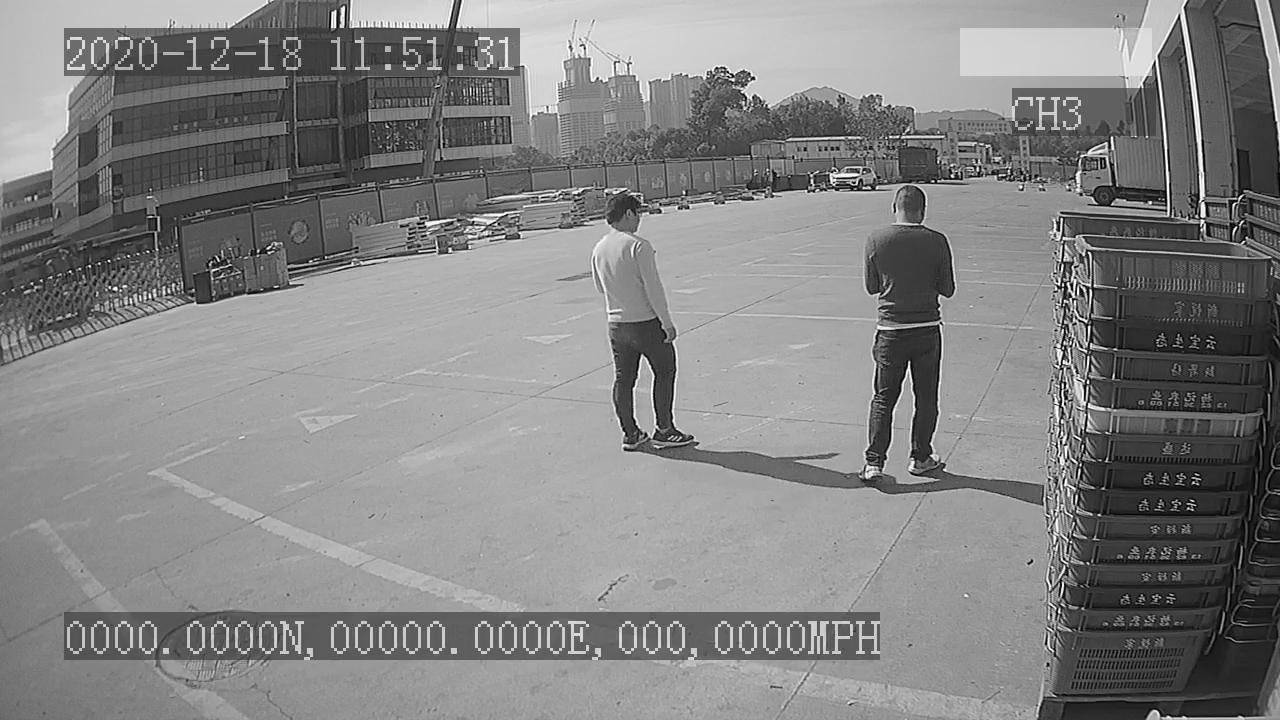person: (854, 181, 961, 486), (583, 185, 702, 456)
